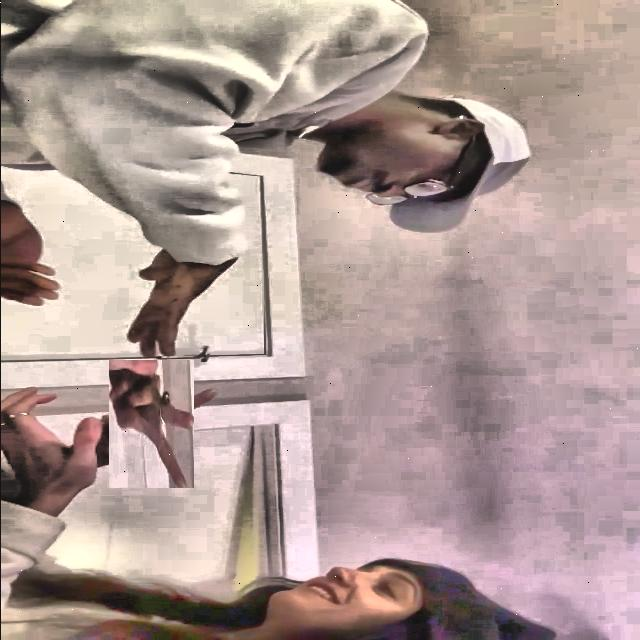not-gloved: (115, 256, 233, 358), (97, 370, 204, 477)
